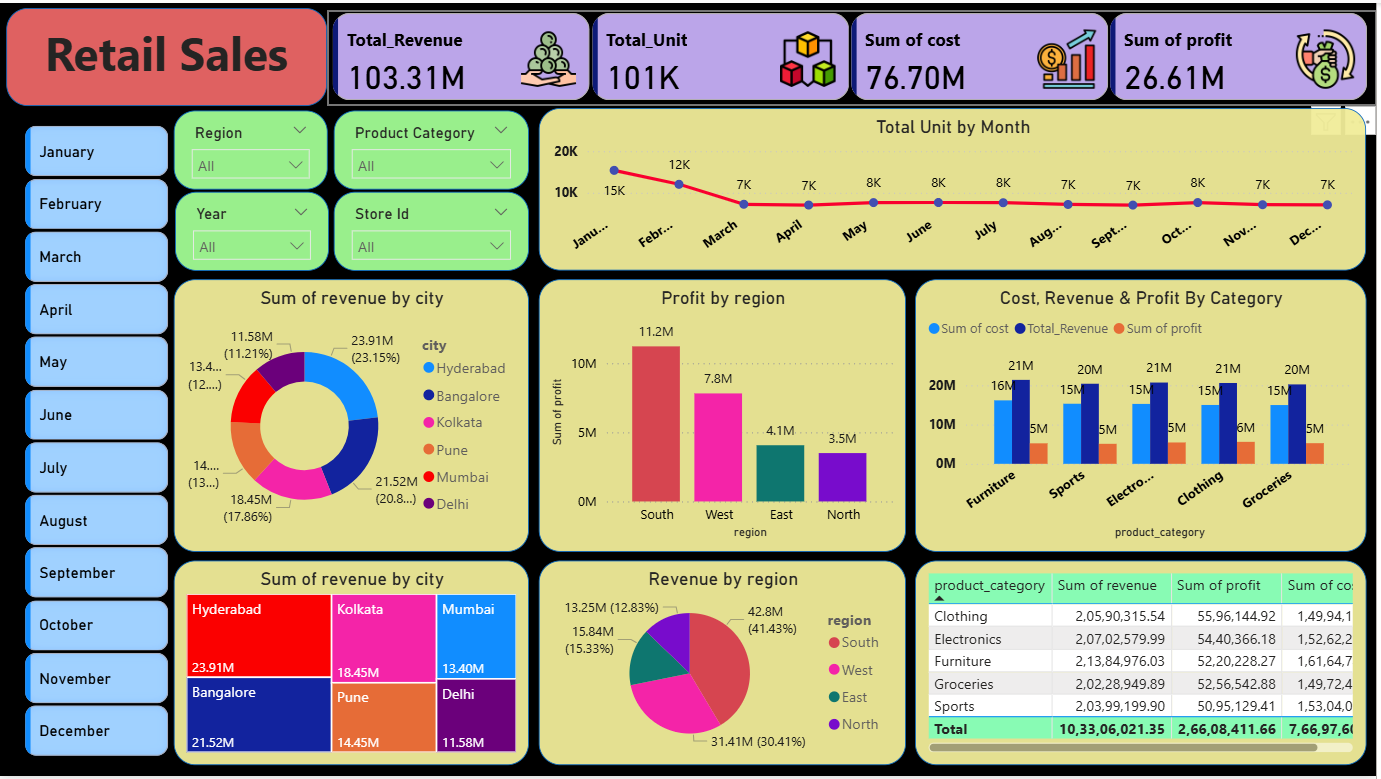

What the dashboard file says about the page in this screenshot:
{"tool":"powerbi","page":{"name":"Page 1","canvas":[1280,720],"ordinal":0},"visuals":[{"type":"cardVisual","fields":{"Data":["merged_data.Total_Revenue","merged_data.Total_Unit","Sum(merged_data.cost)","Sum(merged_data.profit)"]},"box":[304.7,7,975.6,88.4],"z":0},{"type":"slicer","fields":{"Values":["merged_data.product_category"]},"box":[310.5,100,181.4,73.3],"z":2000},{"type":"slicer","fields":{"Values":["merged_data.date.Variation.Date Hierarchy.Year"]},"box":[162.8,175.6,143,73.3],"z":3000},{"type":"slicer","fields":{"Values":["merged_data.region"]},"box":[161.6,100,143,73.3],"z":4000},{"type":"pieChart","title":"Revenue by region","fields":{"Category":["merged_data.region"],"Y":["Sum(merged_data.revenue)"]},"box":[501.2,518.6,341.9,190.7],"z":5000},{"type":"columnChart","title":"Profit by region","fields":{"Category":["merged_data.region"],"Y":["Sum(merged_data.profit)"]},"box":[501.2,257,341.9,253.5],"z":6000},{"type":"advancedSlicerVisual","fields":{"Values":["merged_data.date.Variation.Date Hierarchy.Month"]},"box":[18.6,109.3,143,600],"z":7000},{"type":"lineChart","title":"Total Unit by Month","fields":{"Category":["merged_data.date.Variation.Date Hierarchy.Month"],"Y":["merged_data.Total_Unit"]},"box":[501.2,97.7,769.8,151.2],"z":8000},{"type":"tableEx","fields":{"Values":["merged_data.product_category","Sum(merged_data.revenue)","Sum(merged_data.profit)","Sum(merged_data.cost)"]},"box":[851.2,518.6,419.8,190.7],"z":9000},{"type":"clusteredColumnChart","title":"Cost, Revenue & Profit By Category","fields":{"Category":["merged_data.product_category"],"Y":["Sum(merged_data.cost)","merged_data.Total_Revenue","Sum(merged_data.profit)"]},"box":[851.2,257,419.8,253.5],"z":10000},{"type":"slicer","fields":{"Values":["merged_data.store_id"]},"box":[310.5,175.6,181.4,73.3],"z":11000},{"type":"treemap","fields":{"Group":["merged_data.city"],"Values":["Sum(merged_data.revenue)"]},"box":[161.4,518.7,330.6,190.4],"z":12000},{"type":"textbox","box":[5.6,4.5,298.3,91.3],"z":13000},{"type":"donutChart","fields":{"Y":["Sum(merged_data.revenue)"],"Category":["merged_data.city"]},"box":[161.6,257,330.2,253.5],"z":14000}]}

Visuals, with their boxes in screenshot pixels (x1, y1, x2, y2), scaled from the page's 1280x720 canvas onto the 1381x779 screenshot:
cardVisual - merged_data.Total_Revenue x merged_data.Total_Unit: box=[329, 8, 1380, 103]
slicer - merged_data.product_category: box=[335, 108, 531, 188]
slicer - merged_data.date.Variation.Date Hierarchy.Year: box=[176, 190, 330, 269]
slicer - merged_data.region: box=[174, 108, 329, 188]
"Revenue by region" pieChart: box=[541, 561, 910, 767]
"Profit by region" columnChart: box=[541, 278, 910, 552]
advancedSlicerVisual - merged_data.date.Variation.Date Hierarchy.Month: box=[20, 118, 174, 767]
"Total Unit by Month" lineChart: box=[541, 106, 1371, 269]
tableEx - merged_data.product_category x Sum(merged_data.revenue): box=[918, 561, 1371, 767]
"Cost, Revenue & Profit By Category" clusteredColumnChart: box=[918, 278, 1371, 552]
slicer - merged_data.store_id: box=[335, 190, 531, 269]
treemap - merged_data.city x Sum(merged_data.revenue): box=[174, 561, 531, 767]
textbox: box=[6, 5, 328, 104]
donutChart - Sum(merged_data.revenue) x merged_data.city: box=[174, 278, 531, 552]
